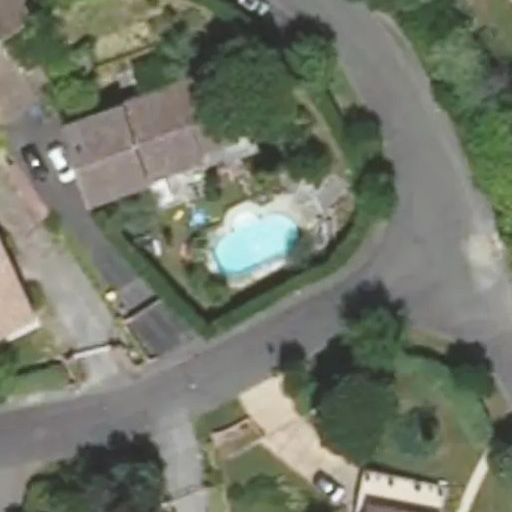pool: (202, 232, 303, 239)
